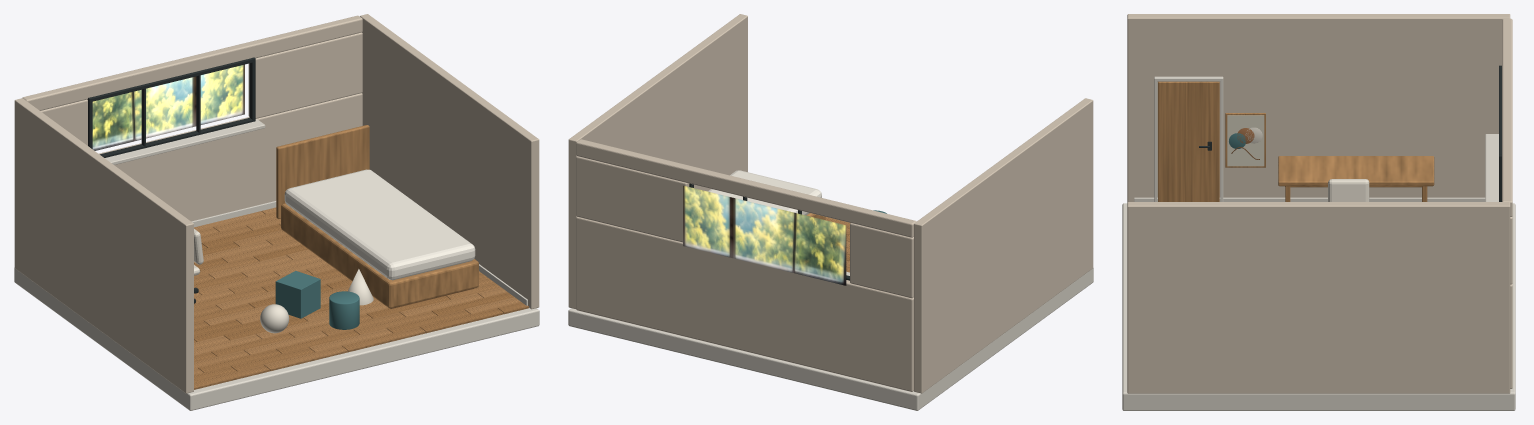
The model's file is 01_simple.glb.
The picture shows the model from 3 angles, left to right: view 1: azimuth 30°, elevation 25°; view 2: azimuth 150°, elevation 25°; view 3: azimuth 270°, elevation 25°; orthographic projection. The views are drawn at different scales.
Visible parts, largest first — view 1: Left wall, Right wall, Rear wall below window, Mattress, Diorama foundation, Window garden backdrop, Rear wall right pier, Rear wall above window, Bed structural base, Simple oak headboard, Study primitive cube, Window sill (+30 smaller); view 2: Left wall, Rear wall below window, Right wall, Window garden backdrop, Diorama foundation, Rear wall right pier, Rear wall above window, Rear wall left pier, Mattress; view 3: Right wall, Left wall, Diorama foundation, Door leaf, Oak desk top, Rear wall above window, Framed wall art ivory print, Left skirting, Desk chair back, Window sill, Door jamb.001, Door jamb (+2 smaller).
Part boxes in pixels (<box>): Left wall: <box>14,98,193,393</box>; Right wall: <box>360,14,539,309</box>; Rear wall below window: <box>99,93,362,221</box>; Mattress: <box>284,169,475,280</box>; Diorama foundation: <box>14,268,539,410</box>; Window garden backdrop: <box>92,64,244,150</box>; Rear wall right pier: <box>248,32,362,118</box>; Rear wall above window: <box>22,15,362,110</box>; Bed structural base: <box>281,203,478,308</box>; Simple oak headboard: <box>276,125,369,218</box>; Study primitive cube: <box>275,271,320,318</box>; Window sill: <box>105,119,265,164</box>; Left wall: <box>914,98,1093,393</box>; Rear wall below window: <box>576,216,913,391</box>; Right wall: <box>568,14,747,308</box>; Window garden backdrop: <box>683,185,846,285</box>; Diorama foundation: <box>568,268,1093,410</box>; Rear wall right pier: <box>576,156,689,242</box>; Rear wall above window: <box>576,139,916,237</box>; Rear wall left pier: <box>850,223,913,298</box>; Mattress: <box>708,170,821,215</box>; Right wall: <box>1127,202,1510,393</box>; Left wall: <box>1127,14,1510,202</box>; Diorama foundation: <box>1122,203,1515,410</box>; Door leaf: <box>1158,81,1219,201</box>; Oak desk top: <box>1278,156,1434,186</box>; Rear wall above window: <box>1502,18,1512,216</box>; Framed wall art ivory print: <box>1227,115,1264,166</box>; Left skirting: <box>1134,197,1485,201</box>; Desk chair back: <box>1328,179,1369,201</box>; Window sill: <box>1485,134,1498,201</box>; Door jamb.001: <box>1220,81,1223,201</box>; Door jamb: <box>1154,81,1157,201</box>.
Size of the model in its own units: 6.72 by 3.36 by 5.86.
16 materials, 8 textured.
